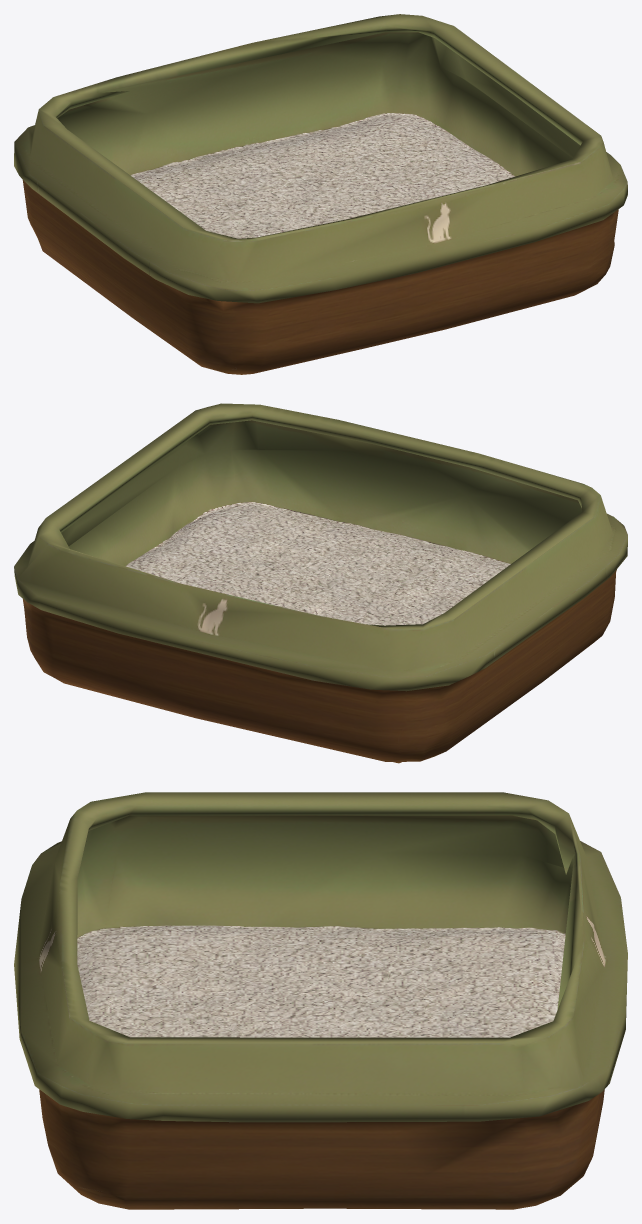
Rendered from Meshy_AI_Green_Rimmed_Wooden_L_0610202704_texture.fbx.
3 renders of one model, top to bottom at view 1: azimuth 30°, elevation 25°; view 2: azimuth 150°, elevation 25°; view 3: azimuth 270°, elevation 25°, orthographic. The views are drawn at different scales.
Visible parts, largest first — view 1: Mesh_0; view 2: Mesh_0; view 3: Mesh_0.
Part boxes in pixels (x1=…): Mesh_0: x1=14, y1=14, x2=627, y2=374; Mesh_0: x1=14, y1=403, x2=627, y2=763; Mesh_0: x1=14, y1=792, x2=627, y2=1209.
Bounding box in the file's own units: 191 × 59.91 × 175.
1 material, 1 textured.
